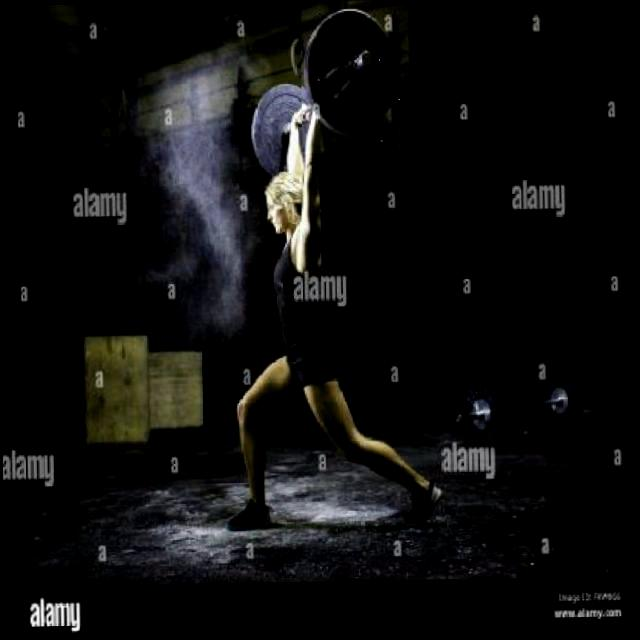barbell: (301, 1, 412, 156)
